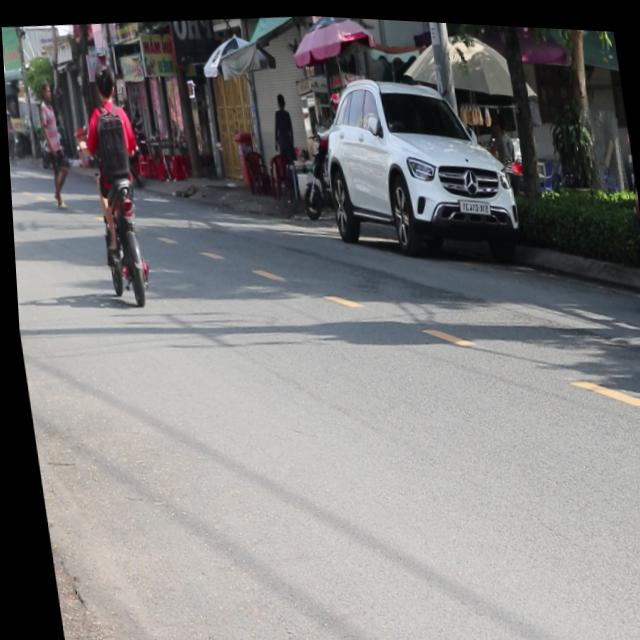licenseplate: (70, 53, 159, 310)
motorcyclist: (91, 59, 117, 102)
